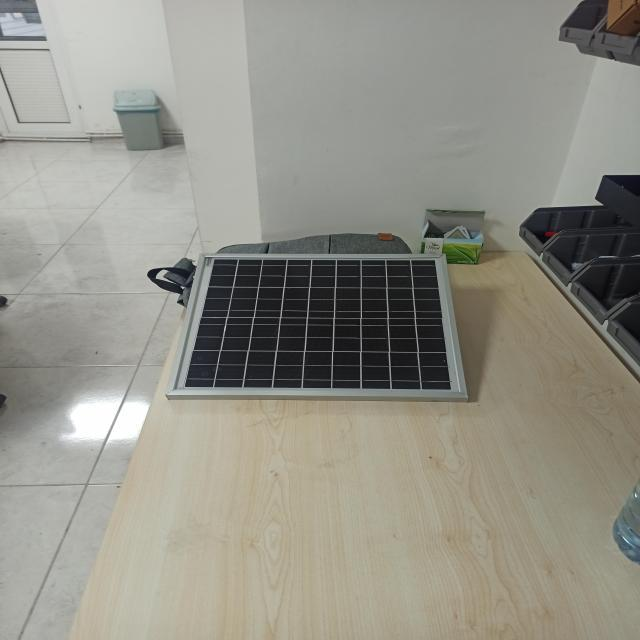no faulty: (169, 255, 467, 397)
